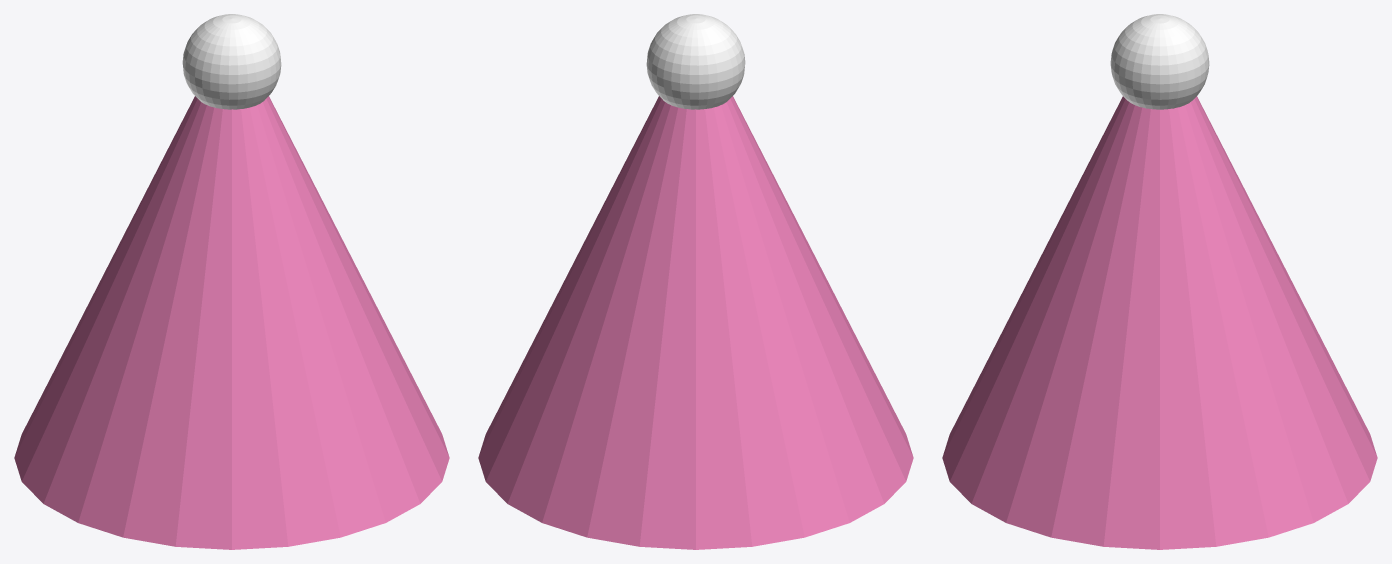
File: gorro-fiesta.glb
3 views of the same model, side by side, from view 1: azimuth 30°, elevation 25°; view 2: azimuth 150°, elevation 25°; view 3: azimuth 270°, elevation 25° (orthographic).
Visible parts, largest first — view 1: GorroFiesta; view 2: GorroFiesta; view 3: GorroFiesta.
Boxes of the visible parts, x1,y1,x2,y2 form: GorroFiesta: [14, 14, 449, 549]; GorroFiesta: [478, 14, 913, 549]; GorroFiesta: [942, 14, 1377, 549].
Size of the model in its own units: 0.22 by 0.245 by 0.22.
